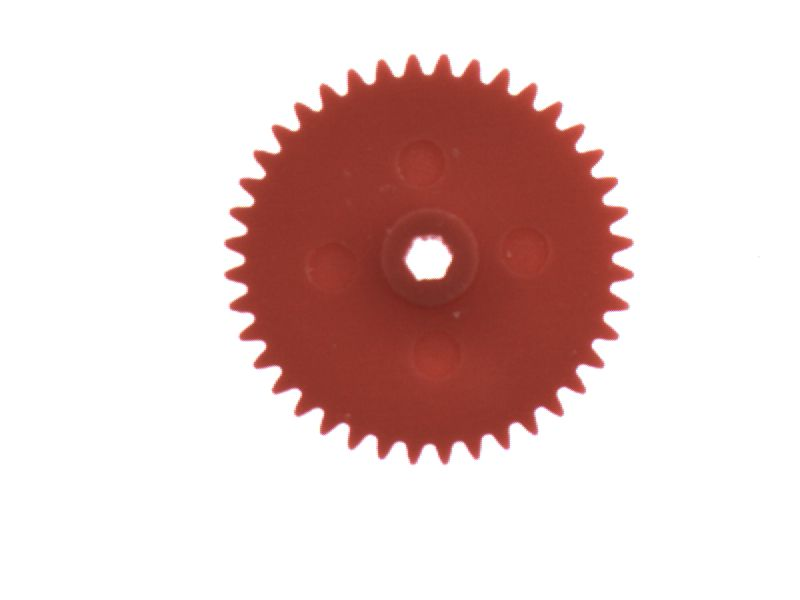good_product: (211, 41, 644, 475)
